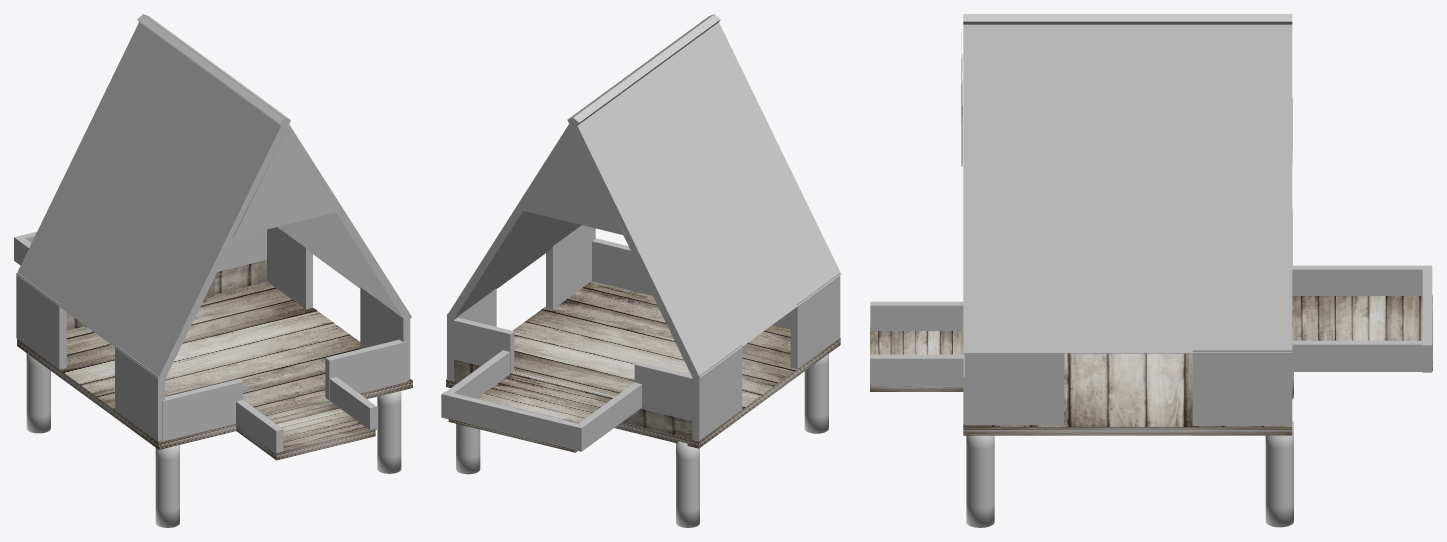
The model's file is beachhouse.dae.
The picture shows the model from 3 angles, left to right: view 1: azimuth 30°, elevation 25°; view 2: azimuth 150°, elevation 25°; view 3: azimuth 270°, elevation 25°; orthographic projection. The views are drawn at different scales.
Visible parts, largest first — view 1: Box002, Box001, Box003, Pyramid001, Box004, Box026, Box023, Box010, Box022, Box025, Box024, Cylinder002 (+6 smaller); view 2: Box002, Box001, Box003, Pyramid002, Box017, Box018, Box023, Box022, Box024, Box009, Box008, Box010 (+7 smaller); view 3: Box003, Box001, Box025, Box024, Box017, Box019, Box020, Box002, Box012, Box004, Box013, Cylinder004 (+2 smaller).
Boxes of the visible parts, x1=… form: Box002: x1=16, y1=14, x2=290, y2=380; Box001: x1=17, y1=281, x2=412, y2=449; Box003: x1=137, y1=14, x2=411, y2=321; Pyramid001: x1=233, y1=132, x2=337, y2=237; Box004: x1=236, y1=399, x2=375, y2=460; Box026: x1=162, y1=378, x2=243, y2=441; Box023: x1=16, y1=273, x2=66, y2=369; Box010: x1=325, y1=339, x2=407, y2=400; Box022: x1=115, y1=345, x2=164, y2=441; Box025: x1=267, y1=227, x2=312, y2=309; Box024: x1=360, y1=287, x2=410, y2=380; Cylinder002: x1=155, y1=445, x2=179, y2=527; Box002: x1=567, y1=14, x2=841, y2=377; Box001: x1=446, y1=281, x2=840, y2=448; Box003: x1=447, y1=14, x2=720, y2=321; Pyramid002: x1=521, y1=132, x2=625, y2=235; Box017: x1=448, y1=374, x2=611, y2=452; Box018: x1=441, y1=391, x2=584, y2=451; Box023: x1=692, y1=344, x2=742, y2=440; Box022: x1=790, y1=272, x2=840, y2=368; Box024: x1=546, y1=225, x2=595, y2=309; Box009: x1=634, y1=361, x2=692, y2=421; Box008: x1=454, y1=317, x2=514, y2=373; Box010: x1=592, y1=238, x2=652, y2=295; Box003: x1=963, y1=24, x2=1292, y2=353; Box001: x1=963, y1=353, x2=1292, y2=435; Box025: x1=1192, y1=349, x2=1292, y2=425; Box024: x1=964, y1=353, x2=1064, y2=425; Box017: x1=1292, y1=295, x2=1432, y2=370; Box019: x1=1292, y1=340, x2=1422, y2=371; Box020: x1=1292, y1=265, x2=1428, y2=295; Box002: x1=963, y1=14, x2=1292, y2=24; Box012: x1=870, y1=354, x2=963, y2=385; Box004: x1=870, y1=327, x2=963, y2=391; Box013: x1=870, y1=301, x2=963, y2=330; Cylinder004: x1=1265, y1=421, x2=1293, y2=527.
Size of the model in its own units: 1.42 by 2.35 by 2.05.
